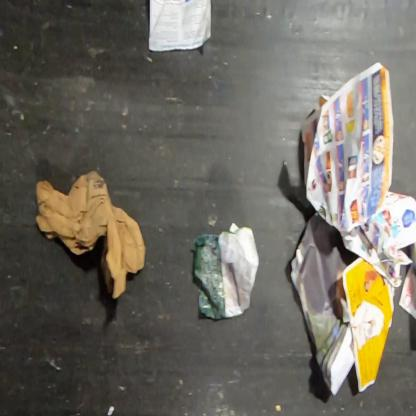cardboard: (34, 168, 146, 302)
